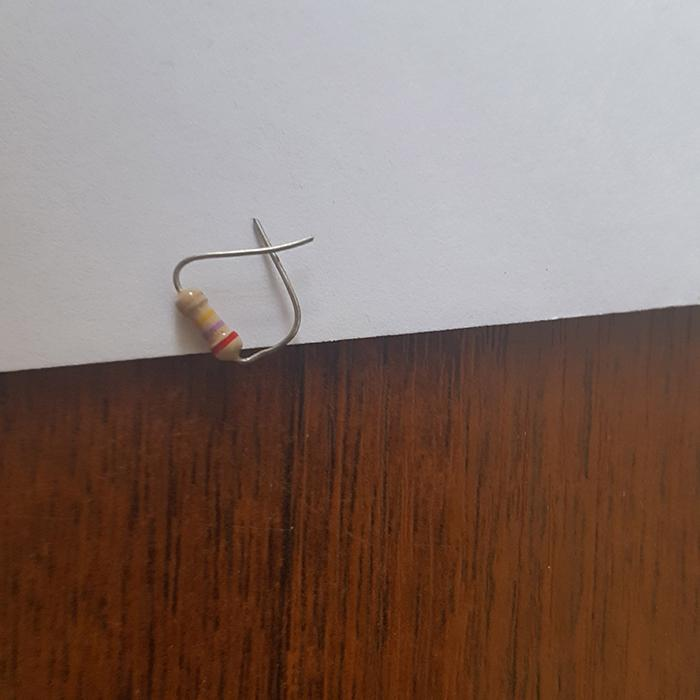resistor: (177, 287, 242, 361)
